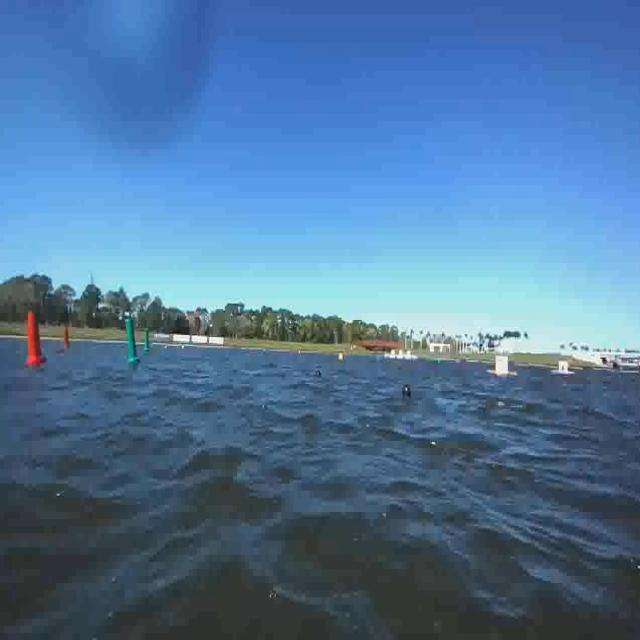black-buoy: (403, 381, 411, 396)
green-column-buoy: (126, 320, 141, 364), (143, 326, 152, 353)
red-column-buoy: (26, 310, 45, 366), (64, 325, 72, 349)
yellow-buoy: (339, 353, 346, 363)
